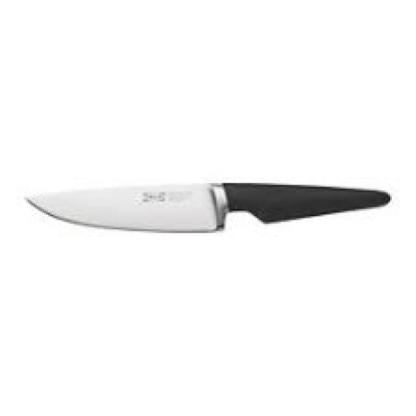Knife: (13, 100, 401, 280)
